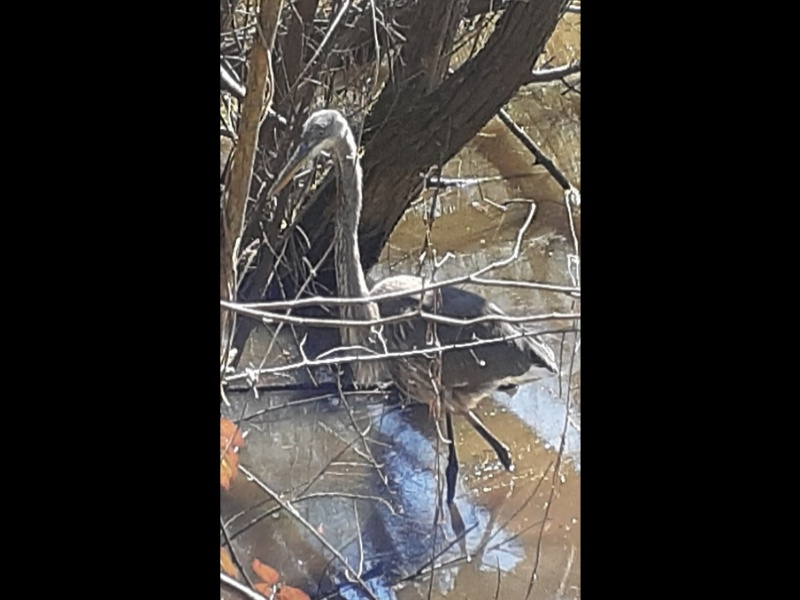heron: (257, 108, 559, 507)
